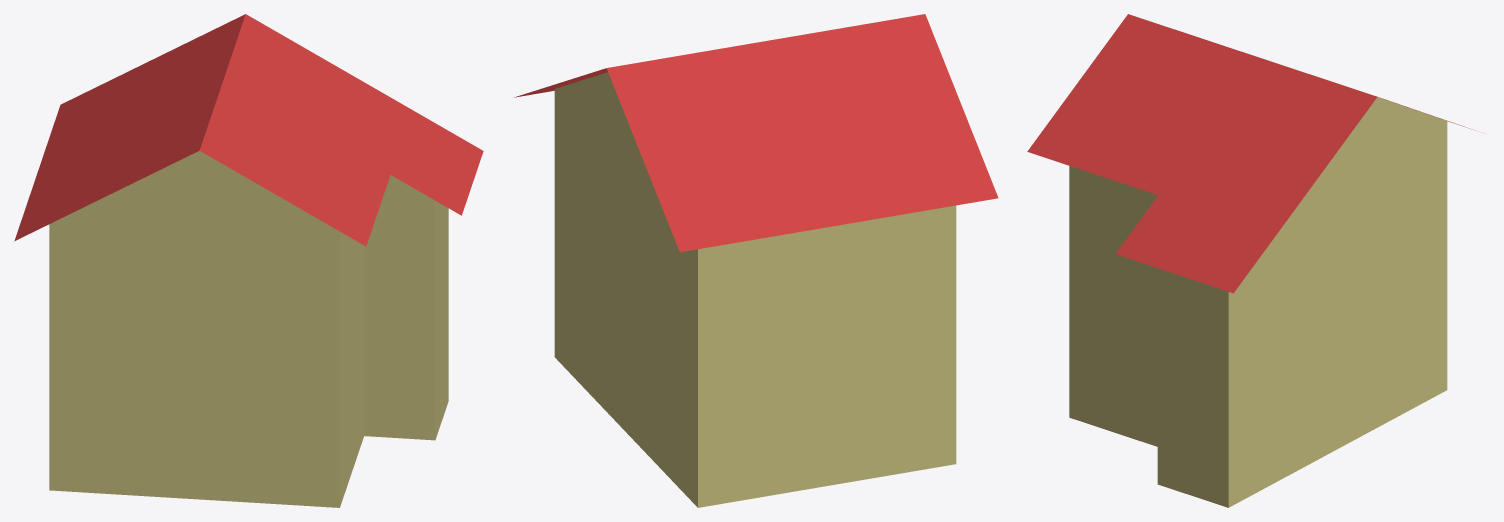
3 views of the same model, side by side, from view 1: azimuth 30°, elevation 25°; view 2: azimuth 150°, elevation 25°; view 3: azimuth 270°, elevation 25° (orthographic). The views are drawn at different scales.
Visible parts, largest first — view 1: group_5, group_3, group_4; view 2: group_5, group_3, group_4; view 3: group_5, group_3, group_4.
Part boxes in pixels (box(x1,y1,x2,y2)): group_5: box(49, 151, 448, 507); group_3: box(49, 14, 448, 244); group_4: box(14, 14, 483, 246); group_5: box(554, 72, 956, 507); group_3: box(514, 19, 993, 252); group_4: box(591, 14, 998, 251); group_5: box(1069, 97, 1447, 507); group_3: box(1028, 14, 1475, 291); group_4: box(1027, 14, 1376, 293).
Bounding box in the file's own units: 17.33 × 15.35 × 12.87.
